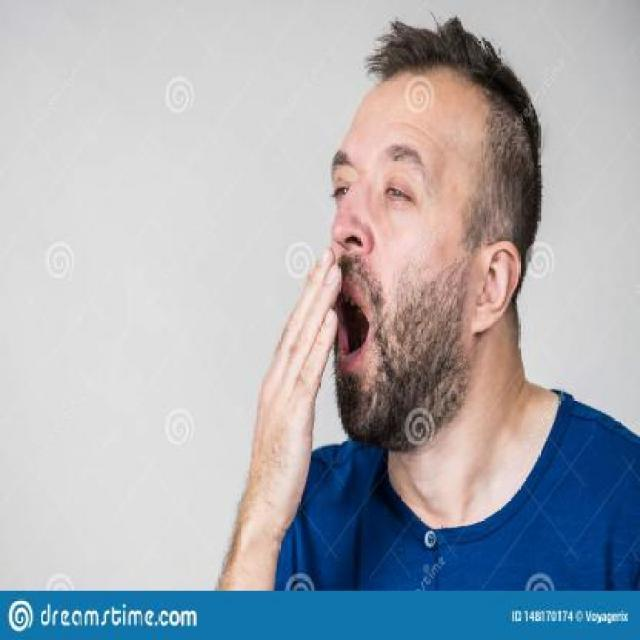Yawn: (319, 89, 489, 454)
